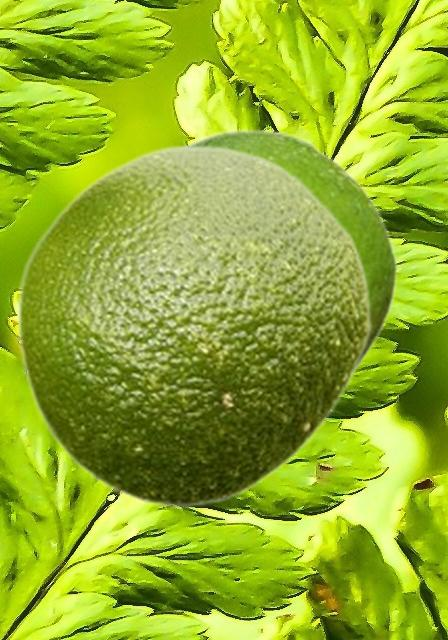calamansi: (15, 143, 371, 509), (183, 128, 397, 371)
